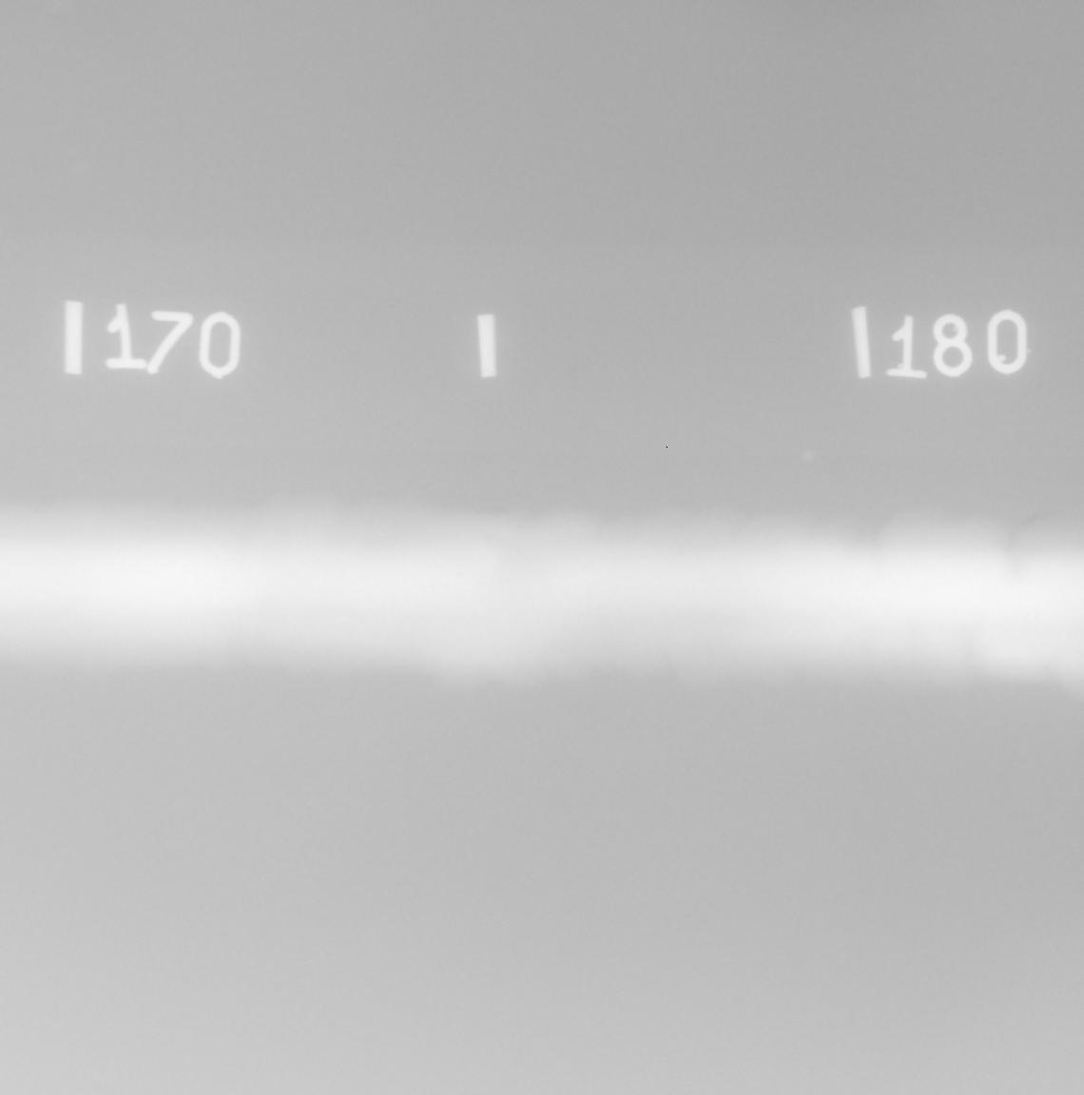Inclusion: (456, 573, 460, 576)
Undercut: (1013, 512, 1057, 531)
